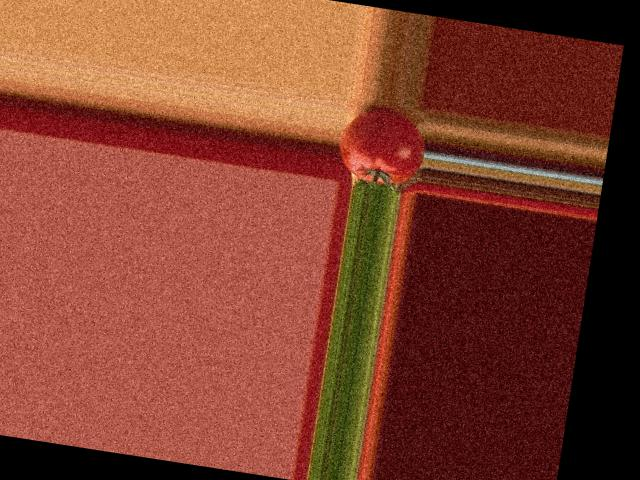tomato: (334, 104, 429, 189)
